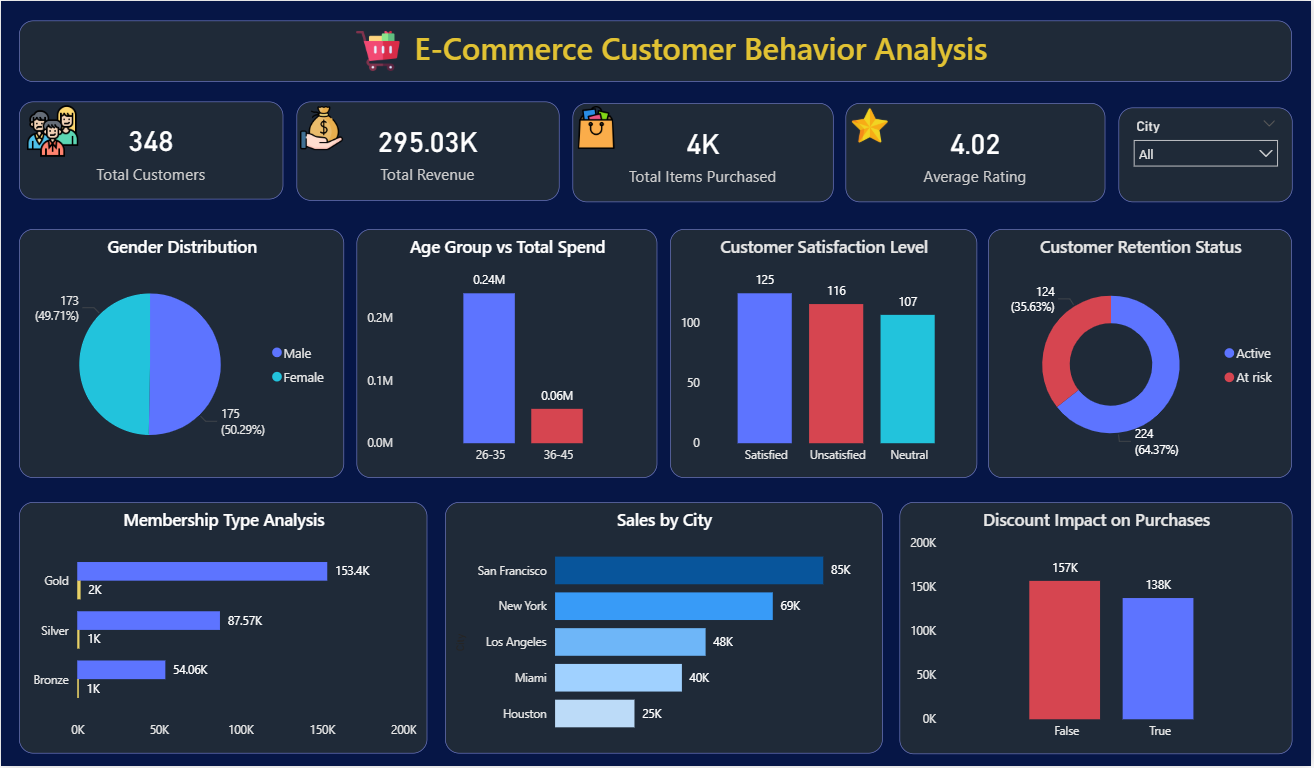

The dashboard page shown, as its layout file describes it:
{"tool":"powerbi","page":{"name":"Page 1","canvas":[1364,797],"ordinal":0},"visuals":[{"type":"card","fields":{"Values":["CountNonNull(Table 1 (Sheet1).Customer ID)"]},"box":[19.1,105.1,275.4,101.9],"z":0},{"type":"image","box":[19,107.4,69.5,55.3],"z":1000},{"type":"card","fields":{"Values":["Sum(Table 1 (Sheet1).Total Spend)"]},"box":[307.6,105.1,273.8,103.5],"z":2000},{"type":"card","fields":{"Values":["Sum(Table 1 (Sheet1).Items Purchased)"]},"box":[594.6,106.7,272.2,103.5],"z":3000},{"type":"card","fields":{"Values":["Avg(Table 1 (Sheet1).Average Rating)"]},"box":[879.9,106.7,270.6,103.5],"z":4000},{"type":"shape","box":[19.1,20.7,1326.1,63.7],"z":5000},{"type":"pieChart","title":"Gender Distribution","fields":{"Category":["Table 1 (Sheet1).Gender"],"Y":["CountNonNull(Table 1 (Sheet1).Customer ID)"]},"box":[18.8,237.4,338.7,259.1],"z":6000},{"type":"clusteredColumnChart","title":"Age Group vs Total Spend","fields":{"Category":["Table 1 (Sheet1).Age Group"],"Y":["Sum(Table 1 (Sheet1).Total Spend)"]},"box":[370.4,237.2,313.6,259.5],"z":7000},{"type":"clusteredBarChart","title":"Membership Type Analysis","fields":{"Category":["Table 1 (Sheet1).Membership Type"],"Y":["Sum(Table 1 (Sheet1).Total Spend)","Sum(Table 1 (Sheet1).Items Purchased)"]},"box":[18.8,522.5,425.5,262],"z":8000},{"type":"barChart","title":"Sales by City","fields":{"Category":["Table 1 (Sheet1).City"],"Y":["Sum(Table 1 (Sheet1).Total Spend)"]},"box":[462.2,522.5,455.9,262],"z":9000},{"type":"clusteredColumnChart","title":"Customer Satisfaction Level","fields":{"Category":["Table 1 (Sheet1).Satisfaction Level"],"Y":["CountNonNull(Table 1 (Sheet1).Customer ID)"]},"box":[696.2,237.2,320,259.5],"z":10000},{"type":"clusteredColumnChart","title":"Discount Impact on Purchases","fields":{"Category":["Table 1 (Sheet1).Discount Applied"],"Y":["Sum(Table 1 (Sheet1).Total Spend)"]},"box":[936,522.1,409.1,262.7],"z":11000},{"type":"donutChart","title":"Customer Retention Status","fields":{"Y":["CountNonNull(Table 1 (Sheet1).Customer ID)"],"Category":["Table 1 (Sheet1).Customer Status"]},"box":[1028.4,237.2,316.8,259.5],"z":12000},{"type":"textbox","box":[293.8,21.7,803.3,63.7],"z":13000},{"type":"slicer","fields":{"Values":["Table 1 (Sheet1).City"]},"box":[1163.7,111.4,181.5,98.7],"z":14000},{"type":"image","box":[296.7,110,73.8,46.3],"z":15000},{"type":"image","box":[594.9,110,49.2,44.9],"z":16000},{"type":"image","box":[880,111.4,50.7,37.6],"z":17000},{"type":"image","box":[367.6,30.4,50.7,44.9],"z":18000}]}

Visuals, with their boxes in screenshot pixels (x1, y1, x2, y2), scaled from the page's 1364x797 canvas onto the 1314x768 screenshot:
card - CountNonNull(Table 1 (Sheet1).Customer ID): rect(18, 101, 284, 199)
image: rect(18, 103, 85, 157)
card - Sum(Table 1 (Sheet1).Total Spend): rect(296, 101, 560, 201)
card - Sum(Table 1 (Sheet1).Items Purchased): rect(573, 103, 835, 203)
card - Avg(Table 1 (Sheet1).Average Rating): rect(848, 103, 1108, 203)
shape: rect(18, 20, 1296, 81)
"Gender Distribution" pieChart: rect(18, 229, 344, 478)
"Age Group vs Total Spend" clusteredColumnChart: rect(357, 229, 659, 479)
"Membership Type Analysis" clusteredBarChart: rect(18, 503, 428, 756)
"Sales by City" barChart: rect(445, 503, 884, 756)
"Customer Satisfaction Level" clusteredColumnChart: rect(671, 229, 979, 479)
"Discount Impact on Purchases" clusteredColumnChart: rect(902, 503, 1296, 756)
"Customer Retention Status" donutChart: rect(991, 229, 1296, 479)
textbox: rect(283, 21, 1057, 82)
slicer - Table 1 (Sheet1).City: rect(1121, 107, 1296, 202)
image: rect(286, 106, 357, 151)
image: rect(573, 106, 620, 149)
image: rect(848, 107, 897, 144)
image: rect(354, 29, 403, 73)
